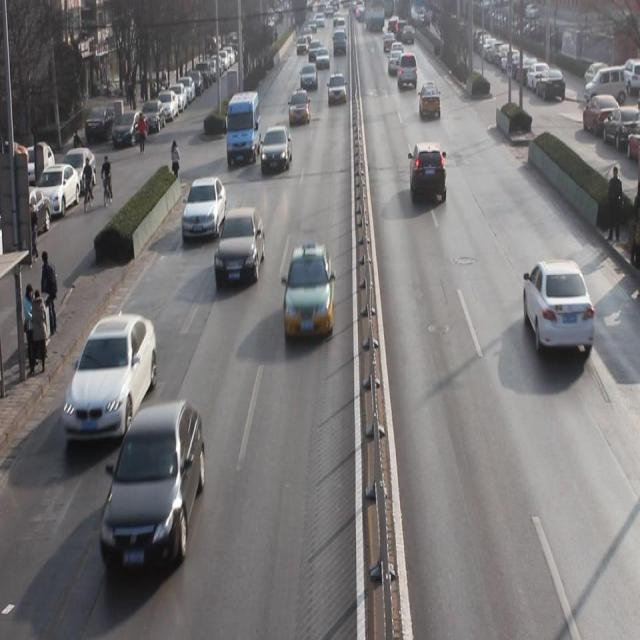car: (98, 406, 205, 579), (63, 319, 158, 438), (523, 260, 595, 365), (283, 245, 336, 345), (218, 209, 266, 289), (182, 175, 227, 242), (409, 144, 448, 208), (261, 127, 293, 175), (289, 88, 311, 129), (420, 82, 441, 119), (326, 72, 347, 108), (299, 64, 318, 94)
truck: (225, 91, 261, 169), (396, 53, 418, 89)
